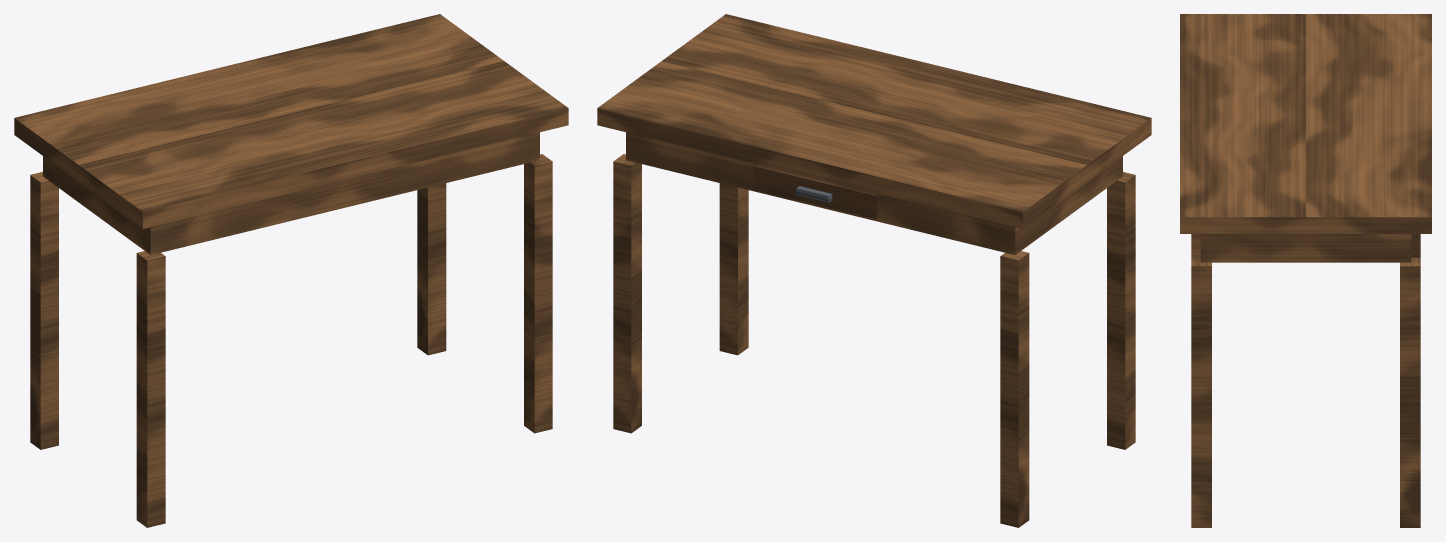
The model's file is writing_desk.fbx.
The picture shows the model from 3 angles, left to right: view 1: azimuth 30°, elevation 25°; view 2: azimuth 150°, elevation 25°; view 3: azimuth 270°, elevation 25°; orthographic projection. The views are drawn at different scales.
Parts seen in each view (by area): view 1: writing_desk; view 2: writing_desk; view 3: writing_desk.
Part boxes in pixels (left/top/right/bottom): writing_desk: left=14, top=14, right=568, bottom=527; writing_desk: left=597, top=14, right=1151, bottom=527; writing_desk: left=1180, top=14, right=1431, bottom=527.
Size of the model in its own units: 105 by 76 by 55.
